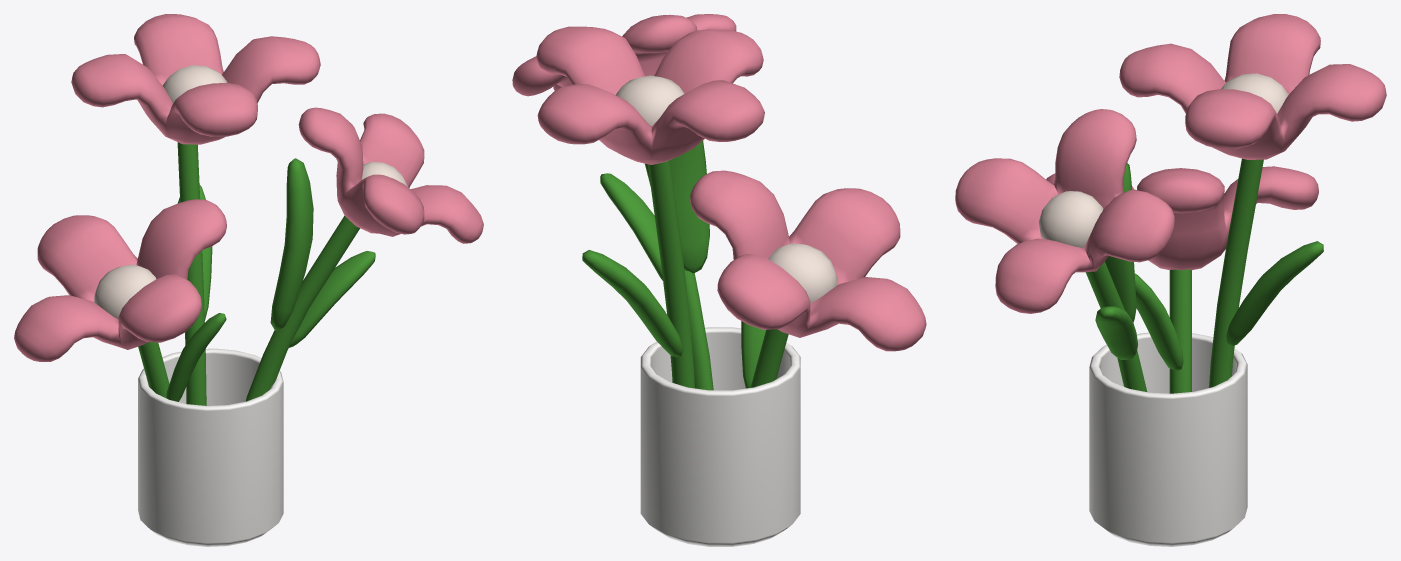
File: Flower_4.glb
3 views of the same model, side by side, from view 1: azimuth 30°, elevation 25°; view 2: azimuth 150°, elevation 25°; view 3: azimuth 270°, elevation 25° (orthographic). The views are drawn at different scales.
Parts seen in each view (by area): view 1: Vase_with_Flowers_2; view 2: Vase_with_Flowers_2; view 3: Vase_with_Flowers_2.
Boxes of the visible parts, bbox=[...] form: Vase_with_Flowers_2: bbox=[14, 14, 483, 546]; Vase_with_Flowers_2: bbox=[512, 14, 926, 546]; Vase_with_Flowers_2: bbox=[955, 14, 1386, 546].
Bounding box in the file's own units: 0.76 × 0.8036 × 0.6667.
Materials: 2 (2 with a texture image).
